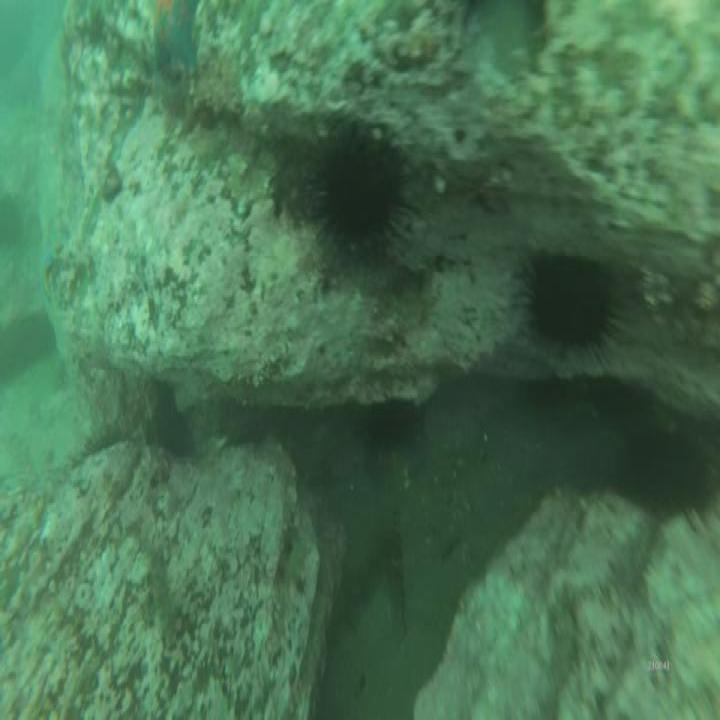echinus: (316, 116, 406, 272), (524, 246, 611, 356), (635, 411, 707, 533), (359, 393, 422, 467)
starfish: (148, 0, 203, 71)
